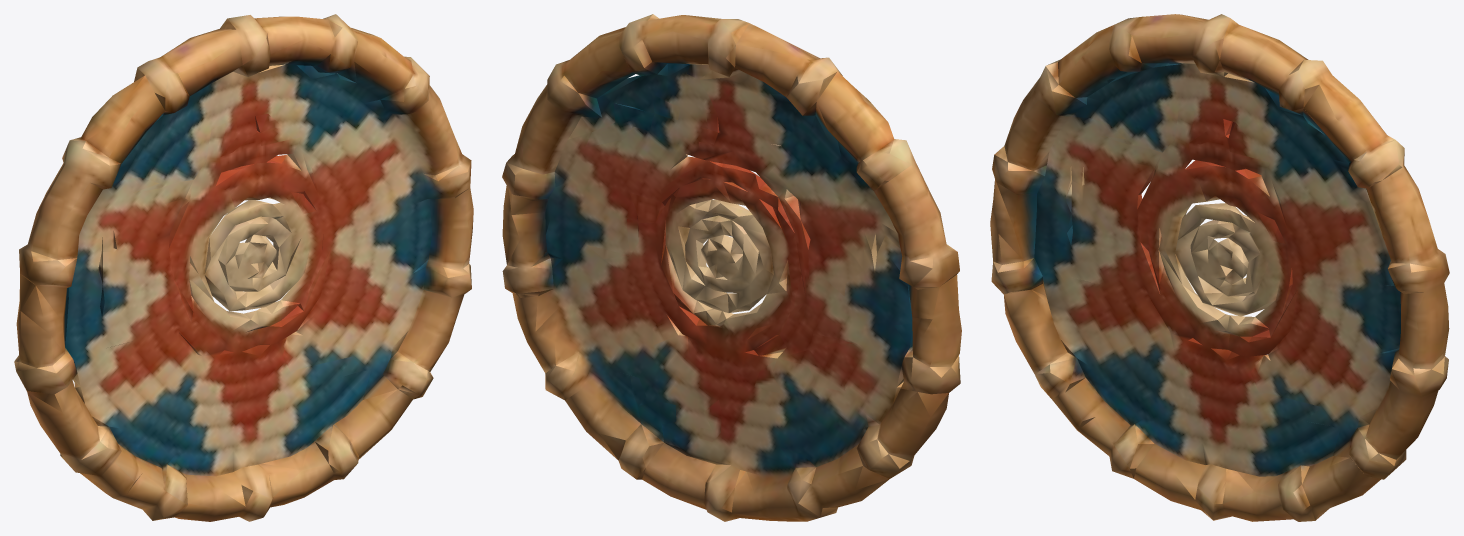
File: wall07.glb
3 views of the same model, side by side, from view 1: azimuth 30°, elevation 25°; view 2: azimuth 150°, elevation 25°; view 3: azimuth 330°, elevation 25° (orthographic).
Size of the model in its own units: 0.2239 by 0.2362 by 0.0292.
1 material, 1 textured.
